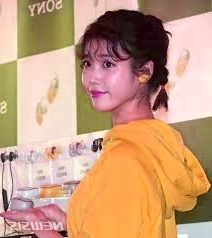earphone: (135, 60, 154, 84)
